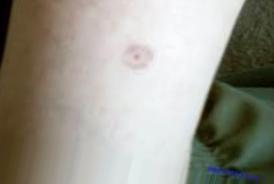Tick: (118, 38, 156, 74)
